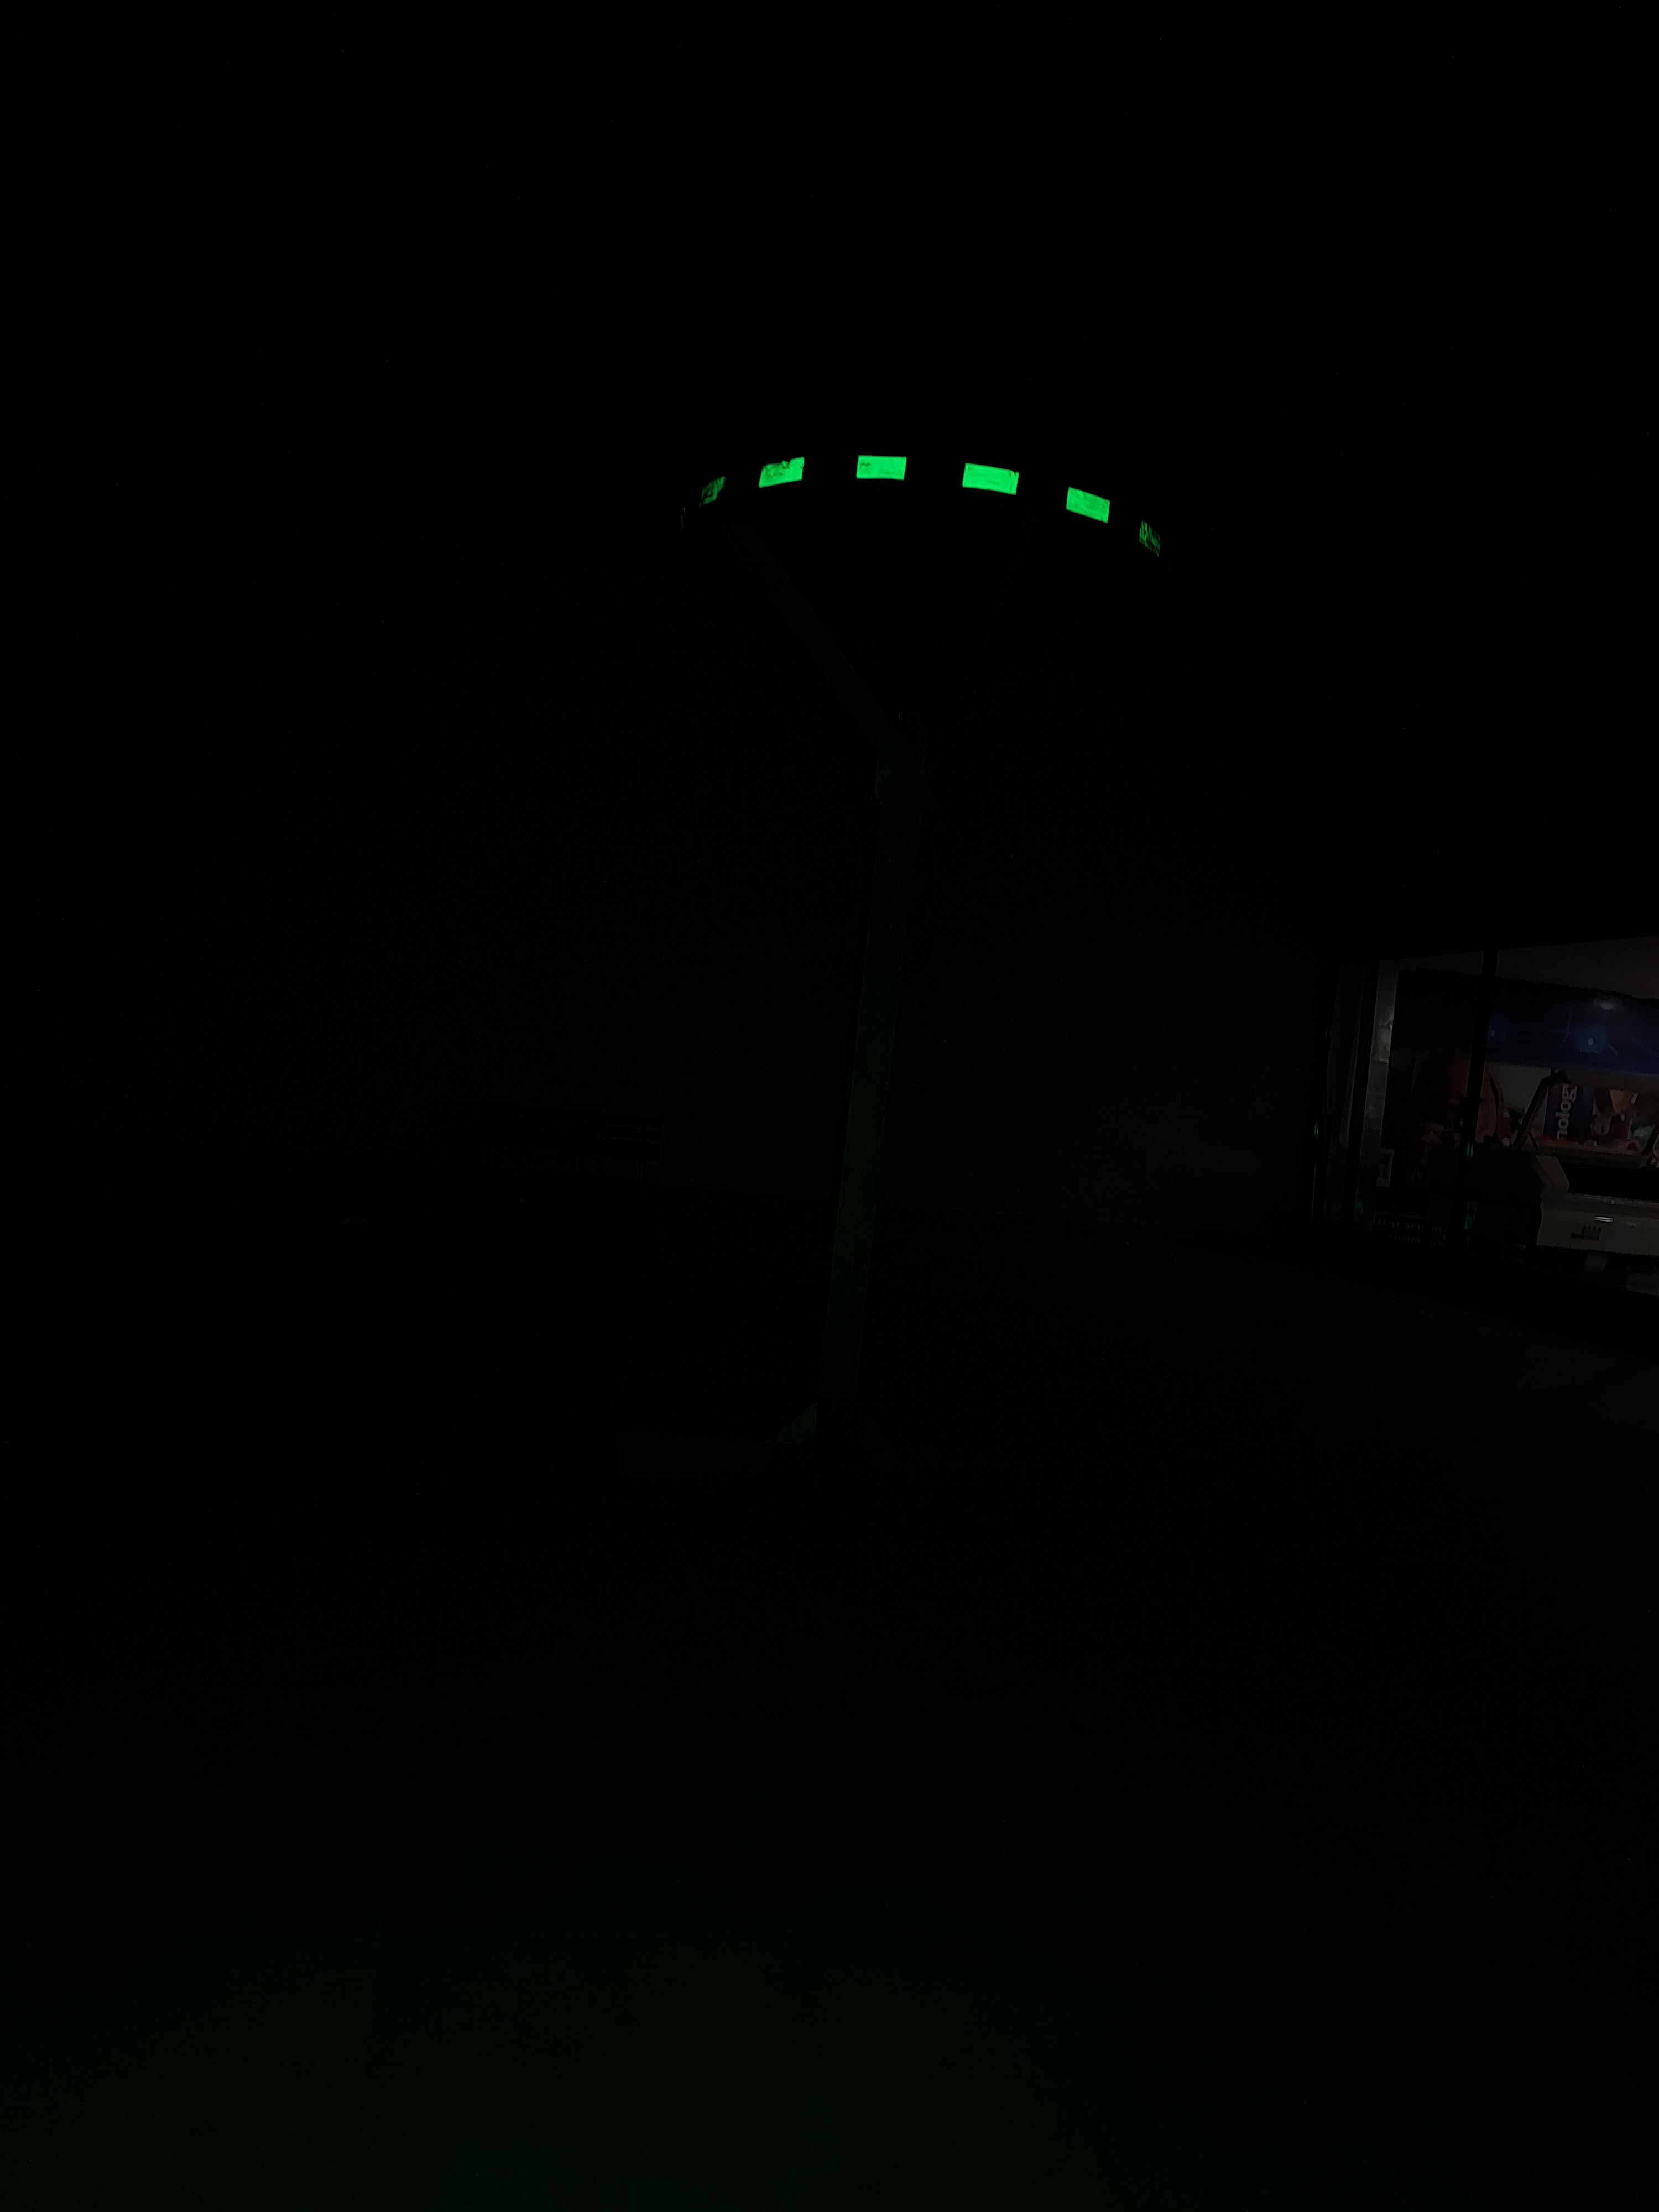hoop: (664, 423, 1187, 578)
